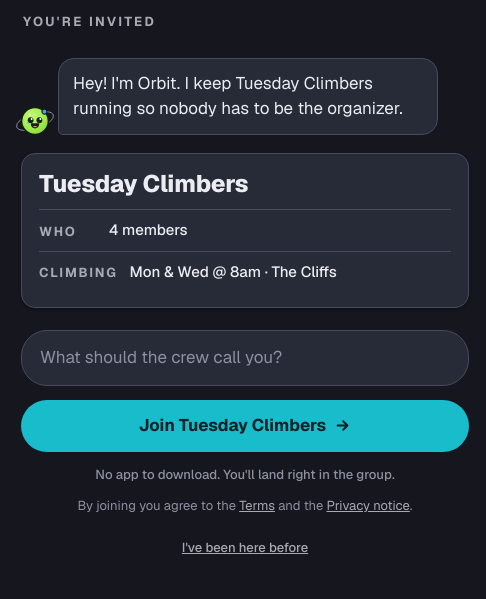
Test: JoinForm, the duplicate-name collision › still renders the required-field message unchanged
Click the button "Join Tuesday Climbers" at (245, 426), box [21,400,469,452]
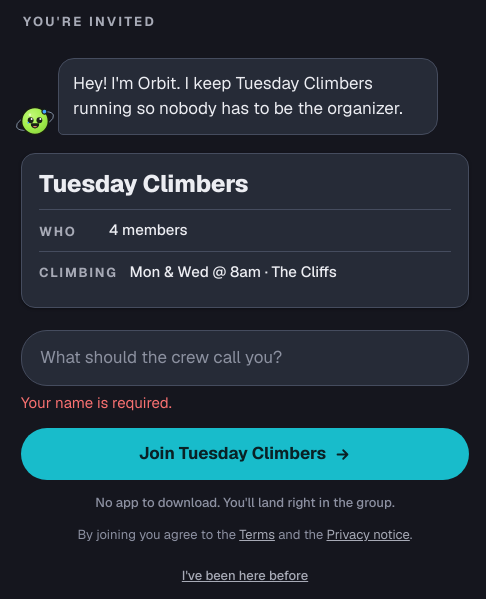
Check: the text "Your name is required." is shown, box [21,393,172,412]
